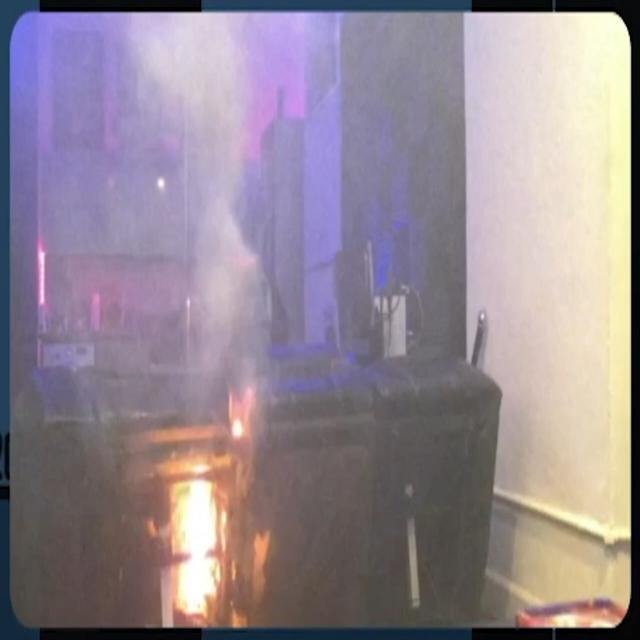Fire: (178, 482, 218, 592)
Smoke: (176, 39, 264, 377)
